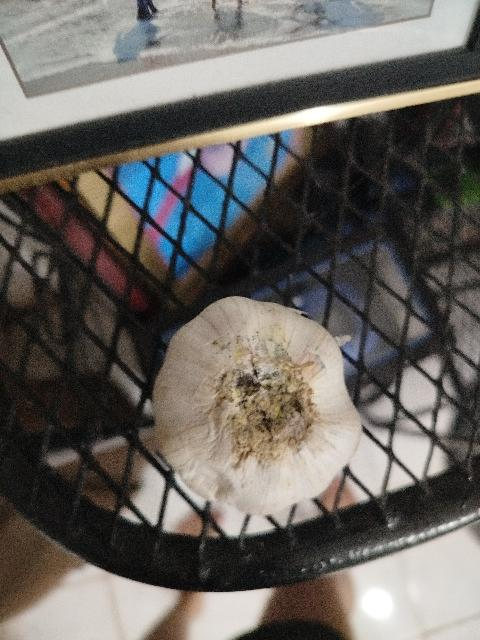garlic: (152, 295, 362, 515)
